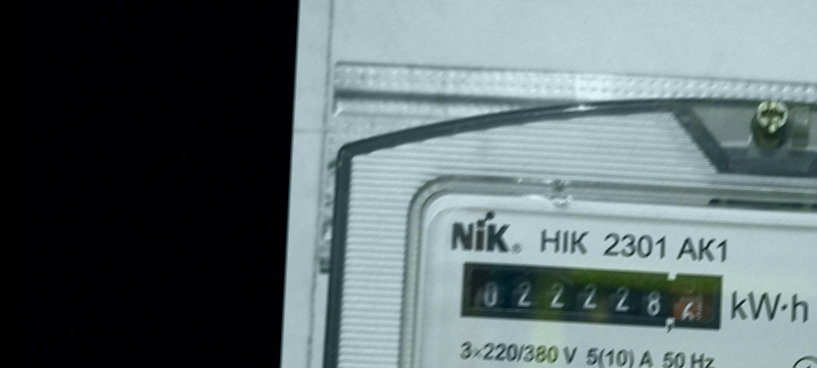0: (482, 279, 500, 308)
2: (516, 278, 535, 309), (549, 280, 567, 309), (582, 281, 600, 310), (615, 284, 633, 313)
5: (682, 275, 699, 296)
6: (681, 299, 698, 320)
8: (646, 288, 663, 317)
screen: (453, 250, 734, 339)
